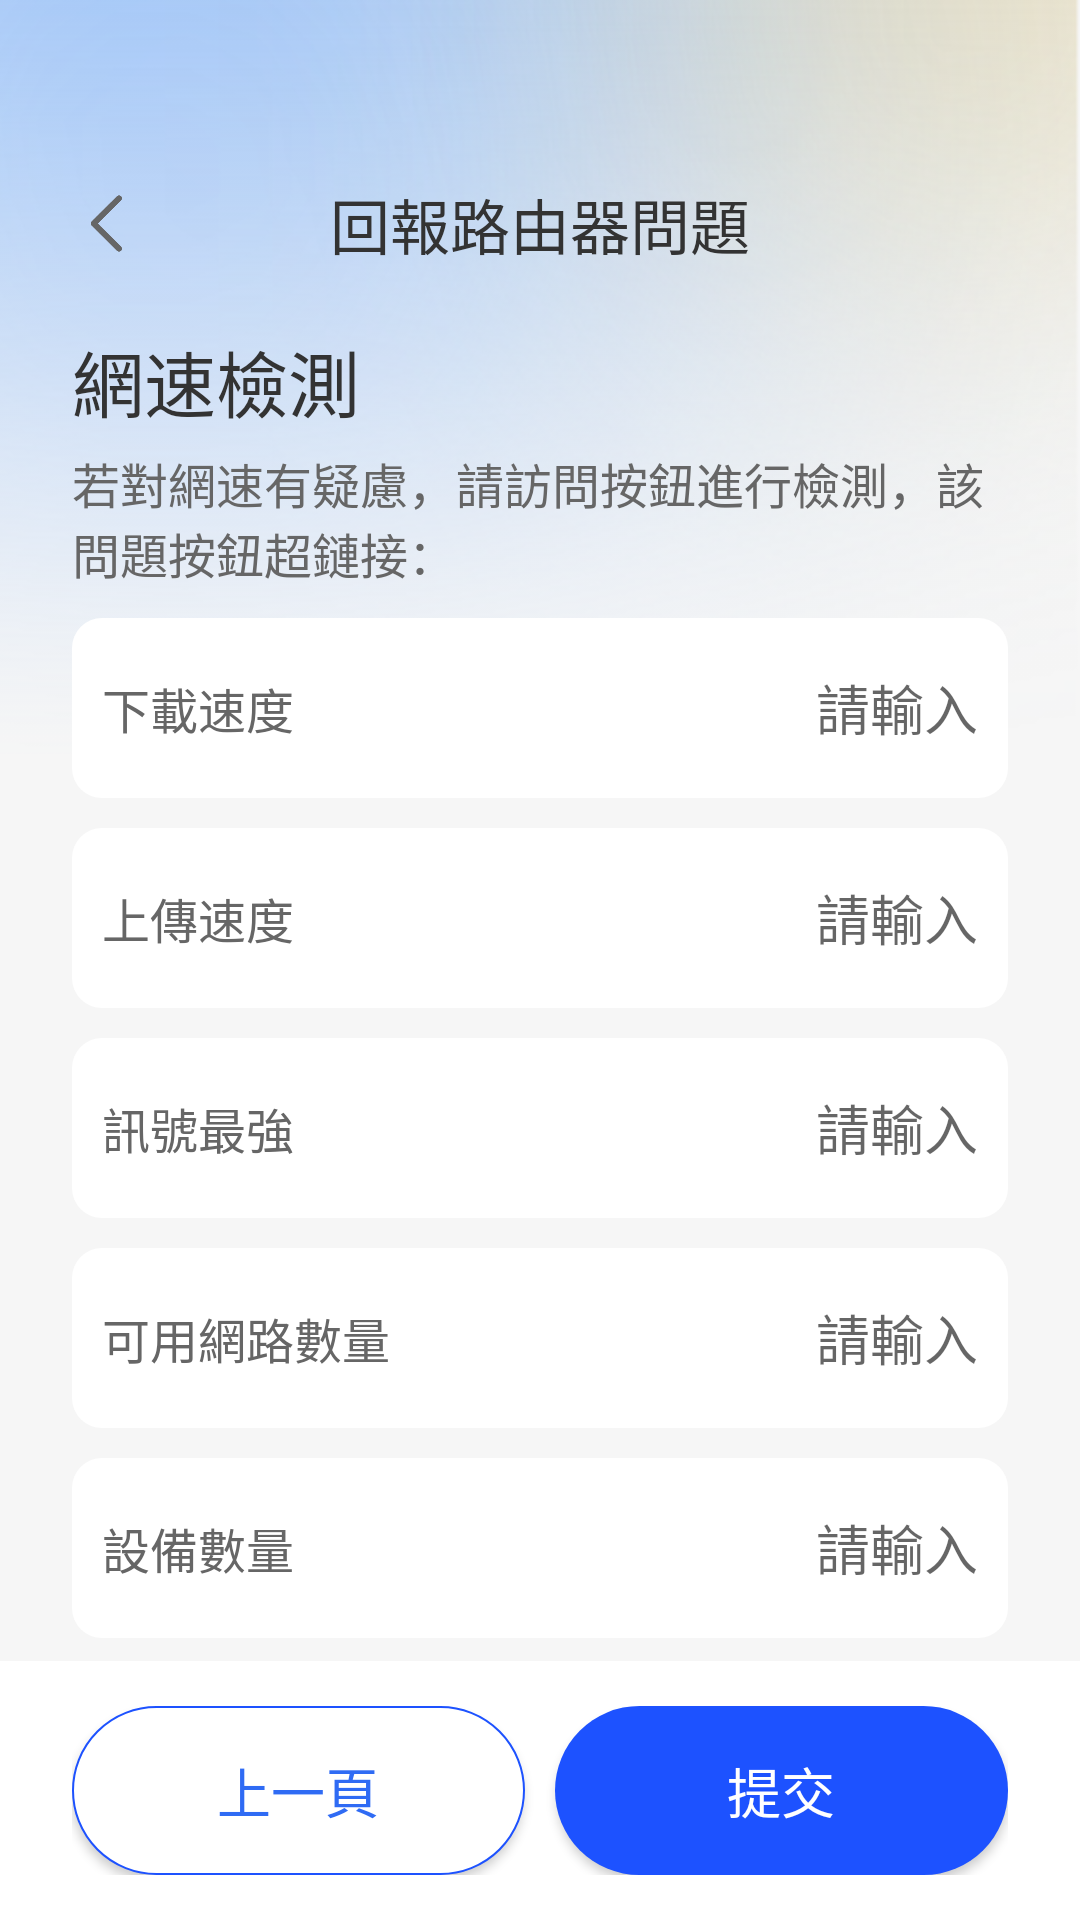

Icon click points for this 1080px x 1920px phone screenshot, format (x=x, y=y):
back: (x=106, y=223)
